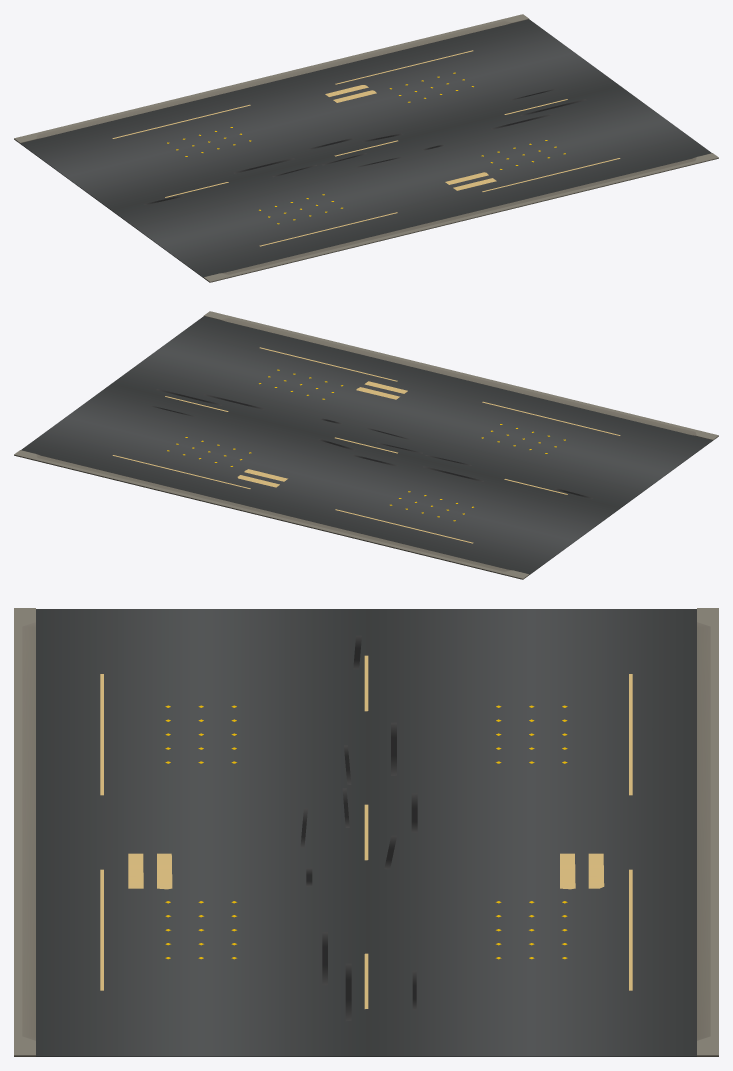
The model's file is tp_runway_03a.glb.
3 renders of one model, top to bottom at view 1: azimuth 30°, elevation 25°; view 2: azimuth 150°, elevation 25°; view 3: azimuth 270°, elevation 25°, orthographic. The views are drawn at different scales.
Parts seen in each view (by area): view 1: TP_Runway_03A; view 2: TP_Runway_03A; view 3: TP_Runway_03A.
Boxes of the visible parts, x1=… form: TP_Runway_03A: x1=14, y1=14, x2=718, y2=282; TP_Runway_03A: x1=14, y1=311, x2=718, y2=579; TP_Runway_03A: x1=14, y1=608, x2=718, y2=1056.
Size of the model in its own units: 96 by 0.2 by 64.
Materials: 1 (1 with a texture image).
